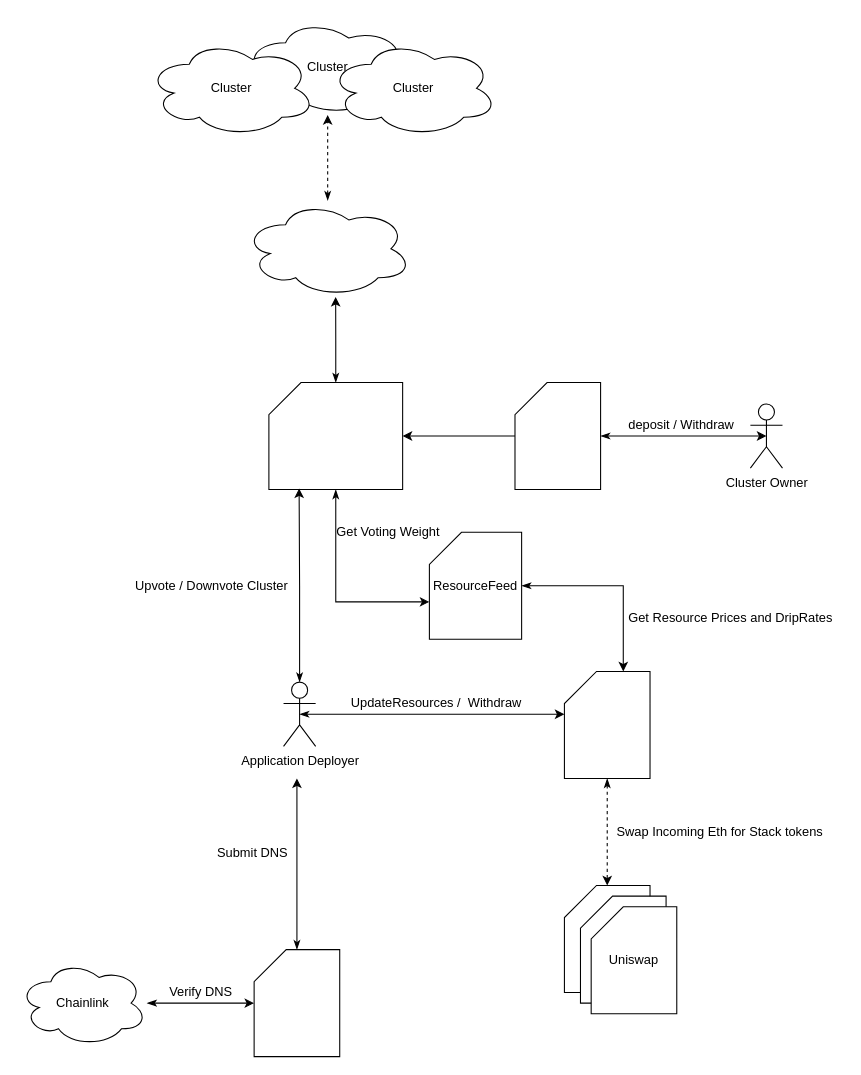
This 861x1075 diagram has some shape labels left out. Here are the shapes that lost their labels. From the top down, the centre of each, then its label:
At (x=327, y=248): "Deccentralised Load Balancer".
At (x=335, y=435): "DNSClusterMetadata".
At (x=557, y=435): "Staking Contract".
At (x=606, y=724): "StackEscrow".
At (x=296, y=1003): "DNSRegistry".
